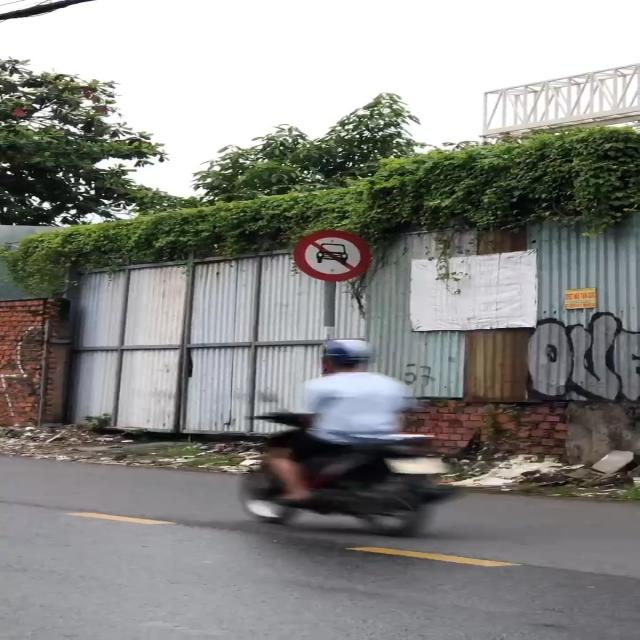Bien bao cam xe oto: (291, 228, 378, 281)
